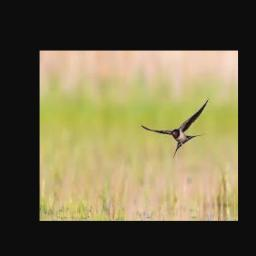Swallow: (140, 99, 208, 156)
